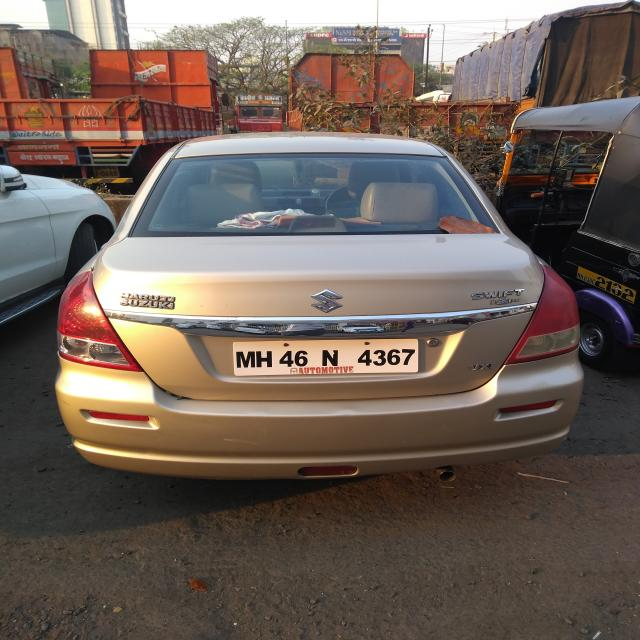Number-Plate: (231, 339, 422, 376)
